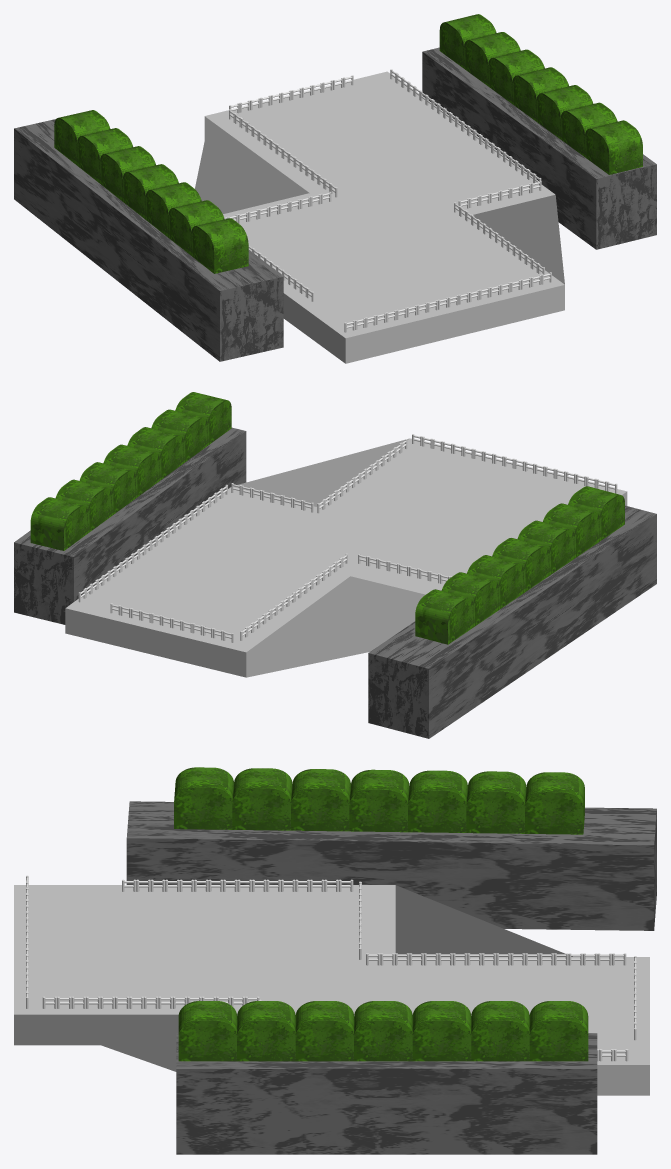
The model's file is steag04.fbx.
3 views of the same model, one above another, from view 1: azimuth 30°, elevation 25°; view 2: azimuth 150°, elevation 25°; view 3: azimuth 270°, elevation 25° (orthographic). The views are drawn at different scales.
Visible parts, largest first — view 1: 立方体.002, 立方体, 立方体.001, 葉.001, 葉, 円柱.006; view 2: 立方体.002, 立方体, 立方体.001, 葉, 葉.001, 円柱.006; view 3: 立方体.002, 立方体, 立方体.001, 葉, 葉.001, 円柱.006.
Boxes of the visible parts, left/top/right/bottom form: 立方体.002: left=195, top=71, right=564, bottom=363; 立方体: left=14, top=119, right=283, bottom=361; 立方体.001: left=422, top=47, right=656, bottom=249; 葉.001: left=439, top=14, right=642, bottom=174; 葉: left=54, top=110, right=248, bottom=273; 円柱.006: left=224, top=69, right=551, bottom=332; 立方体.002: left=65, top=438, right=627, bottom=677; 立方体: left=368, top=505, right=656, bottom=738; 立方体.001: left=14, top=427, right=246, bottom=624; 葉: left=415, top=486, right=624, bottom=644; 葉.001: left=30, top=392, right=231, bottom=550; 円柱.006: left=78, top=434, right=617, bottom=642; 立方体.002: left=14, top=885, right=649, bottom=1095; 立方体: left=126, top=801, right=656, bottom=930; 立方体.001: left=176, top=1033, right=597, bottom=1154; 葉: left=174, top=767, right=584, bottom=834; 葉.001: left=178, top=1001, right=588, bottom=1061; 円柱.006: left=26, top=875, right=636, bottom=1061.
Size of the model in its own units: 7558 by 1656 by 7489.
